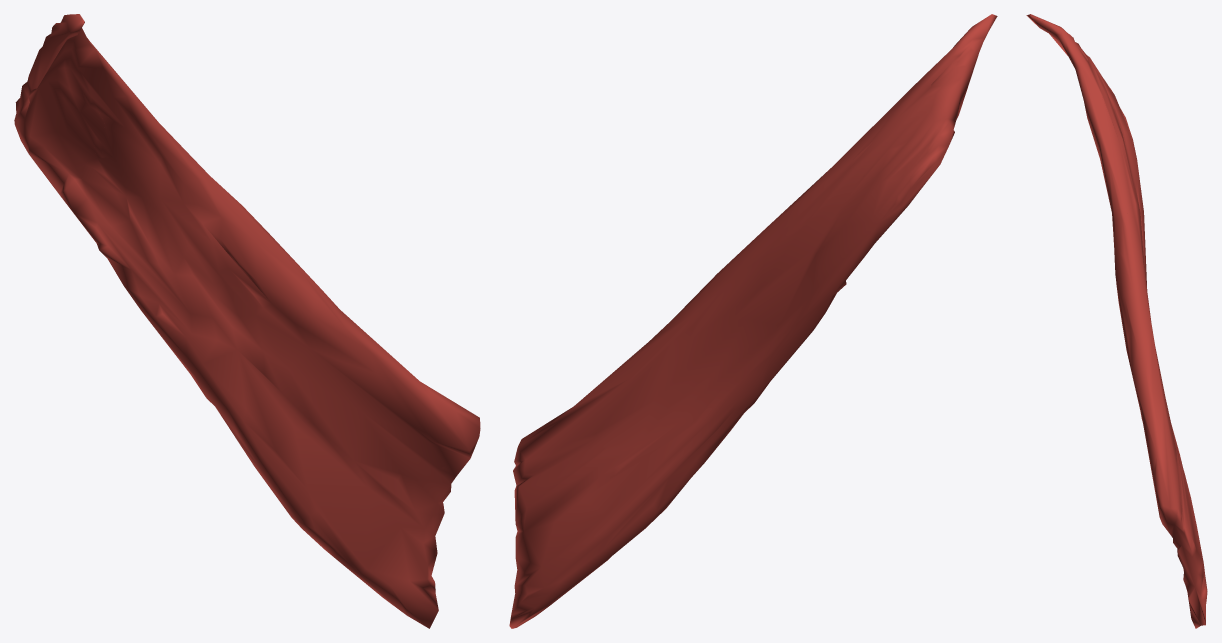
File: musculos-rhomboid-minor-muscle-l.glb
3 renders of one model, left to right at view 1: azimuth 30°, elevation 25°; view 2: azimuth 150°, elevation 25°; view 3: azimuth 270°, elevation 25°, orthographic. The views are drawn at different scales.
Visible parts, largest first — view 1: Rhomboid minor muscle.l; view 2: Rhomboid minor muscle.l; view 3: Rhomboid minor muscle.l.
Part boxes in pixels (bbox=[...]): Rhomboid minor muscle.l: bbox=[14, 14, 480, 628]; Rhomboid minor muscle.l: bbox=[509, 14, 997, 628]; Rhomboid minor muscle.l: bbox=[1026, 14, 1207, 628].
Size of the model in its own units: 0.0654 by 0.1009 by 0.0347.
